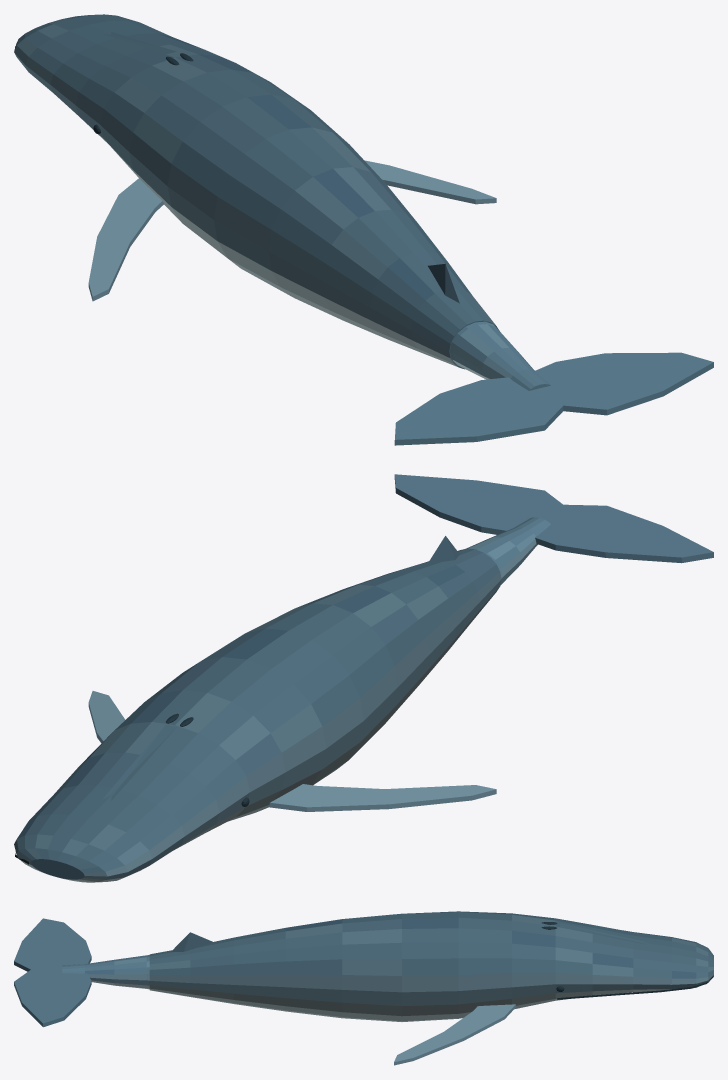
File: wild_whale.glb
3 views of the same model, one above another, from view 1: azimuth 30°, elevation 25°; view 2: azimuth 150°, elevation 25°; view 3: azimuth 270°, elevation 25° (orthographic). The views are drawn at different scales.
Parts seen in each view (by area): view 1: Continuous streamlined body and flat U head, Broad horizontal notched flukes, Long pointed pectoral flipper, Tapering flexible tail stock, Long pointed pectoral flipper.001; view 2: Continuous streamlined body and flat U head, Broad horizontal notched flukes, Long pointed pectoral flipper, Tapering flexible tail stock, Long pointed pectoral flipper.001; view 3: Continuous streamlined body and flat U head, Broad horizontal notched flukes, Long pointed pectoral flipper.001, Tapering flexible tail stock.
Boxes of the visible parts, x1,y1,x2,y2 form: Continuous streamlined body and flat U head: [14, 14, 499, 369]; Broad horizontal notched flukes: [394, 352, 713, 445]; Long pointed pectoral flipper: [88, 178, 163, 301]; Tapering flexible tail stock: [450, 321, 550, 390]; Long pointed pectoral flipper.001: [364, 160, 496, 204]; Continuous streamlined body and flat U head: [14, 536, 501, 882]; Broad horizontal notched flukes: [394, 474, 713, 563]; Long pointed pectoral flipper: [269, 784, 496, 811]; Tapering flexible tail stock: [465, 517, 550, 585]; Long pointed pectoral flipper.001: [88, 691, 125, 743]; Continuous streamlined body and flat U head: [149, 911, 713, 1021]; Broad horizontal notched flukes: [14, 918, 91, 1027]; Long pointed pectoral flipper.001: [394, 1004, 515, 1065]; Tapering flexible tail stock: [62, 955, 149, 989].
Size of the model in its own units: 1.95 by 0.672 by 4.33.
